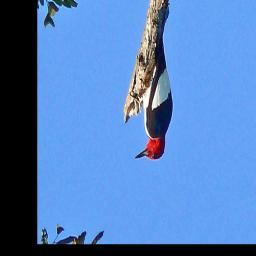Woodpecker: (129, 7, 182, 171)
